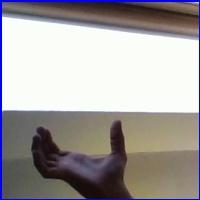space: (22, 119, 141, 196)
